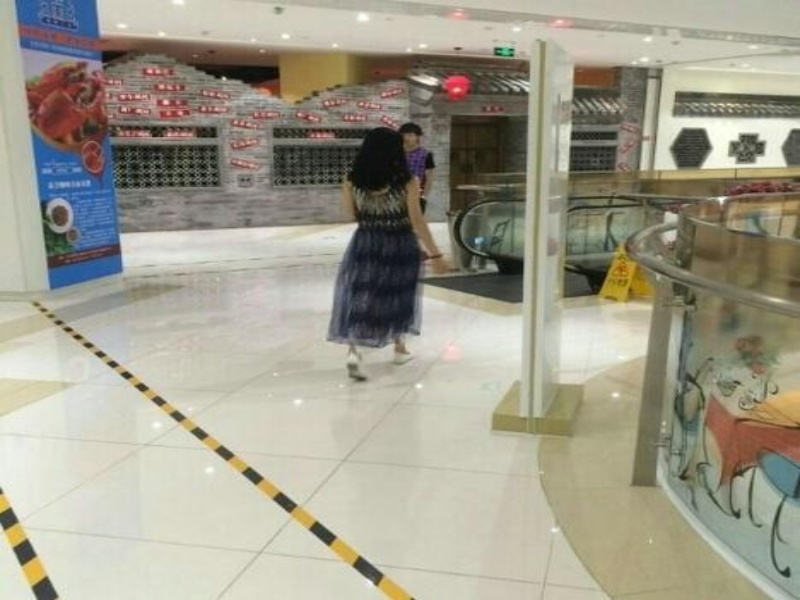vest_dress: (326, 169, 426, 351)
